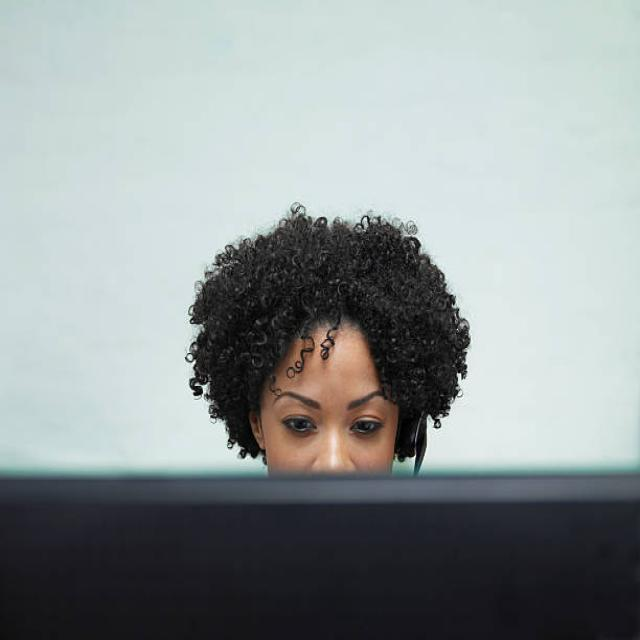Headphone: (397, 408, 428, 478)
